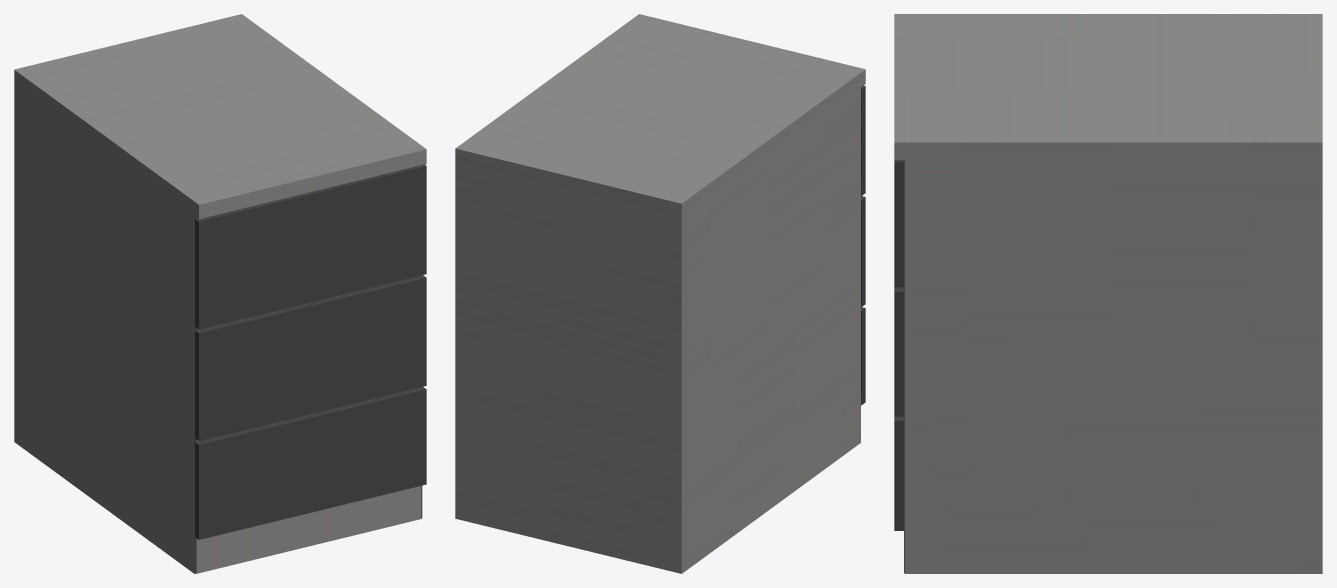
3 views of the same model, side by side, from view 1: azimuth 30°, elevation 25°; view 2: azimuth 150°, elevation 25°; view 3: azimuth 270°, elevation 25° (orthographic). The views are drawn at different scales.
Parts seen in each view (by area): view 1: Stolecek_pod_stul v1; view 2: Stolecek_pod_stul v1; view 3: Stolecek_pod_stul v1.
Boxes of the visible parts, left/top/right/bottom form: Stolecek_pod_stul v1: left=14, top=14, right=426, bottom=573; Stolecek_pod_stul v1: left=455, top=14, right=865, bottom=573; Stolecek_pod_stul v1: left=894, top=14, right=1322, bottom=573.
Bounding box in the file's own units: 0.32 × 0.45 × 0.5.
